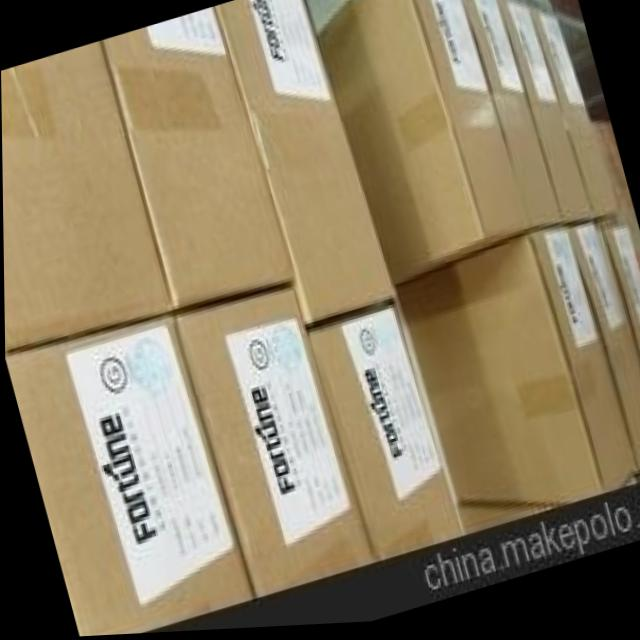box: (4, 315, 253, 637), (397, 228, 634, 512), (173, 285, 374, 603), (315, 0, 530, 291), (215, 0, 394, 329), (102, 9, 294, 313), (1, 43, 172, 352), (307, 306, 460, 565), (462, 0, 563, 236), (499, 0, 593, 228), (529, 8, 620, 226), (568, 227, 640, 480), (600, 218, 640, 376)
